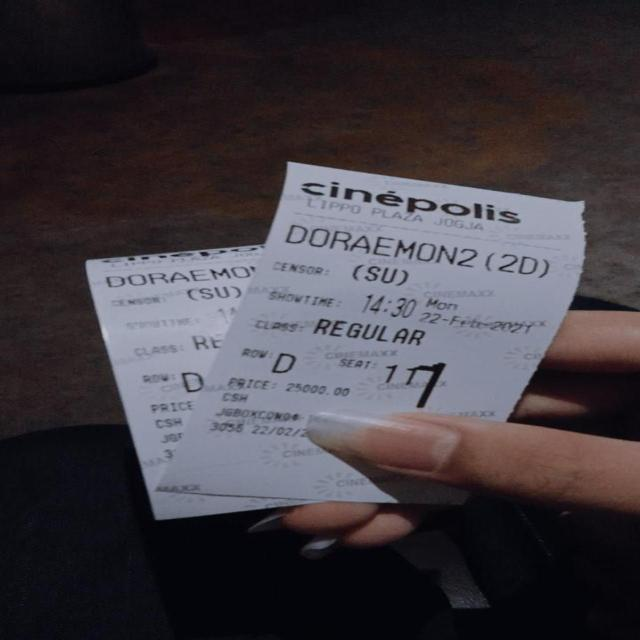date: (360, 286, 576, 338)
store: (290, 174, 543, 237)
total: (224, 376, 373, 404)
